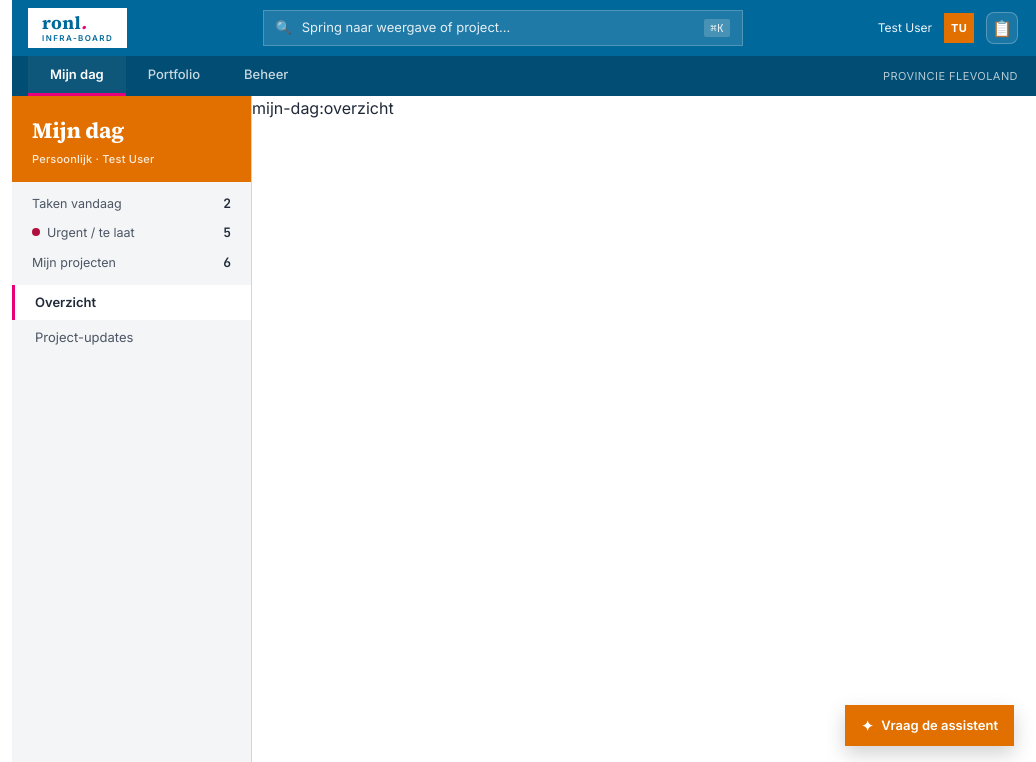
it: InfraBoardDashboard › switching mode tabs resets to that mode's default section
Expected: the text "mijn-dag:overzicht" is shown, [252,98,394,118]
Click the button "Portfolio".
click(174, 76)  # box [126,56,222,96]
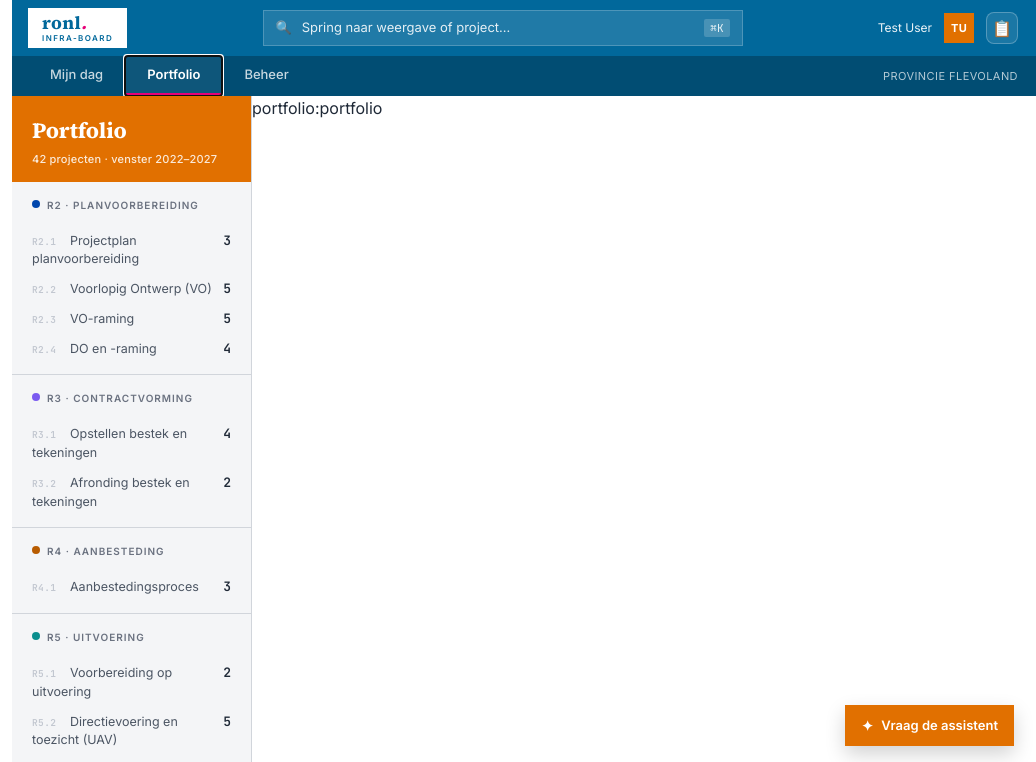
Expected: the text with test id "section-router" reads "portfolio:portfolio", [252,98,382,118]
